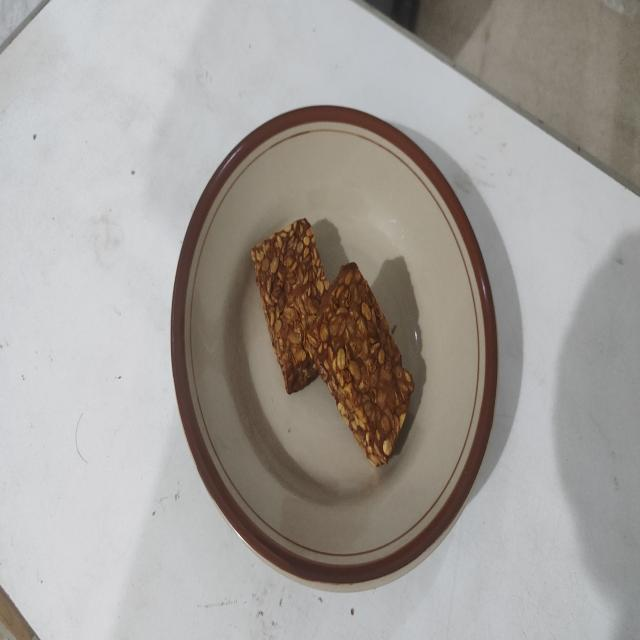tempe_goreng: (305, 263, 414, 466), (251, 218, 330, 394)
